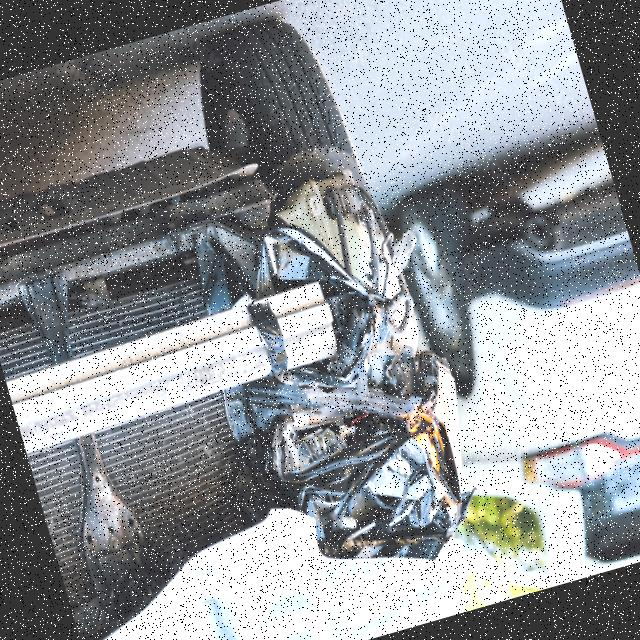Head Light: (206, 199, 496, 586)
